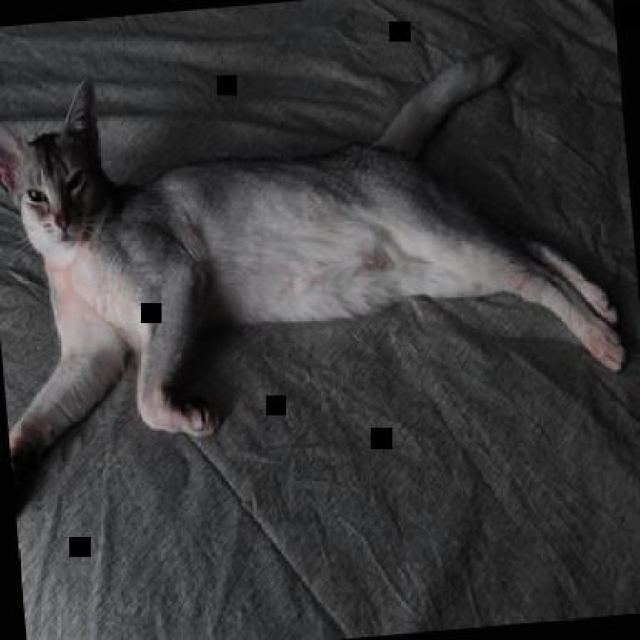cat: (0, 29, 637, 531)
